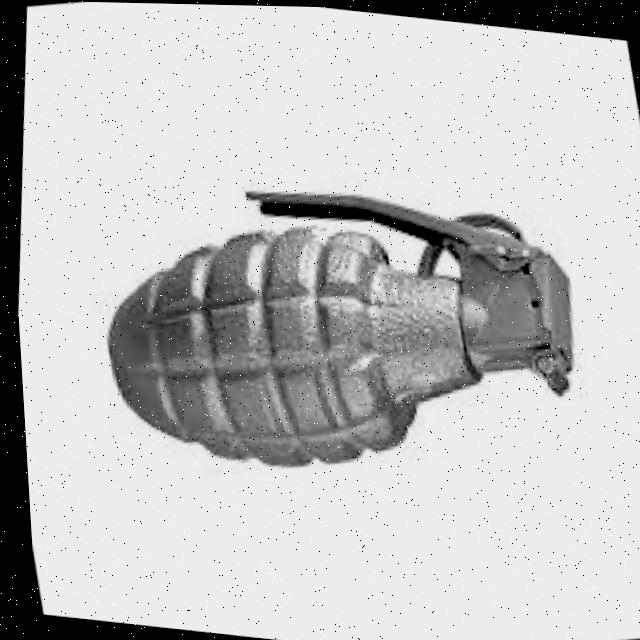grenade: (48, 108, 625, 545)
